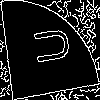U: (24, 24, 71, 68)
